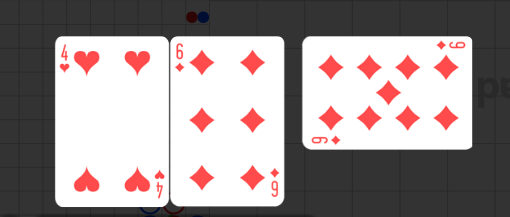4H: (152, 168, 165, 200)
9D: (435, 40, 467, 52), (310, 135, 342, 147)
